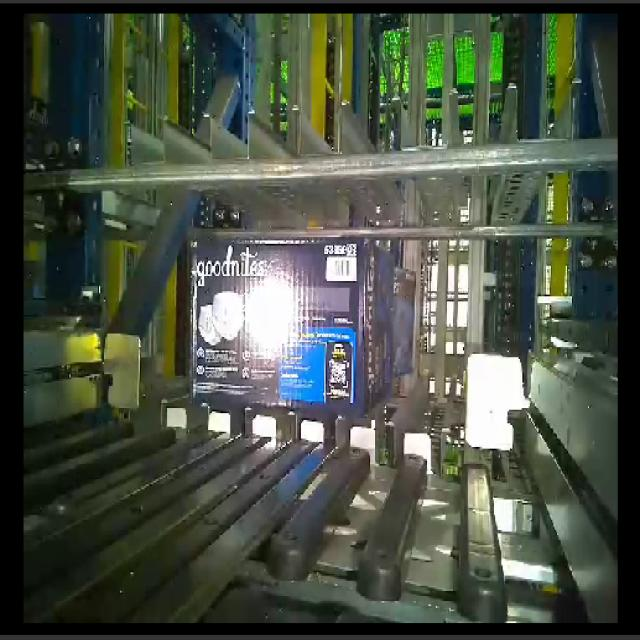box: (189, 235, 368, 417)
